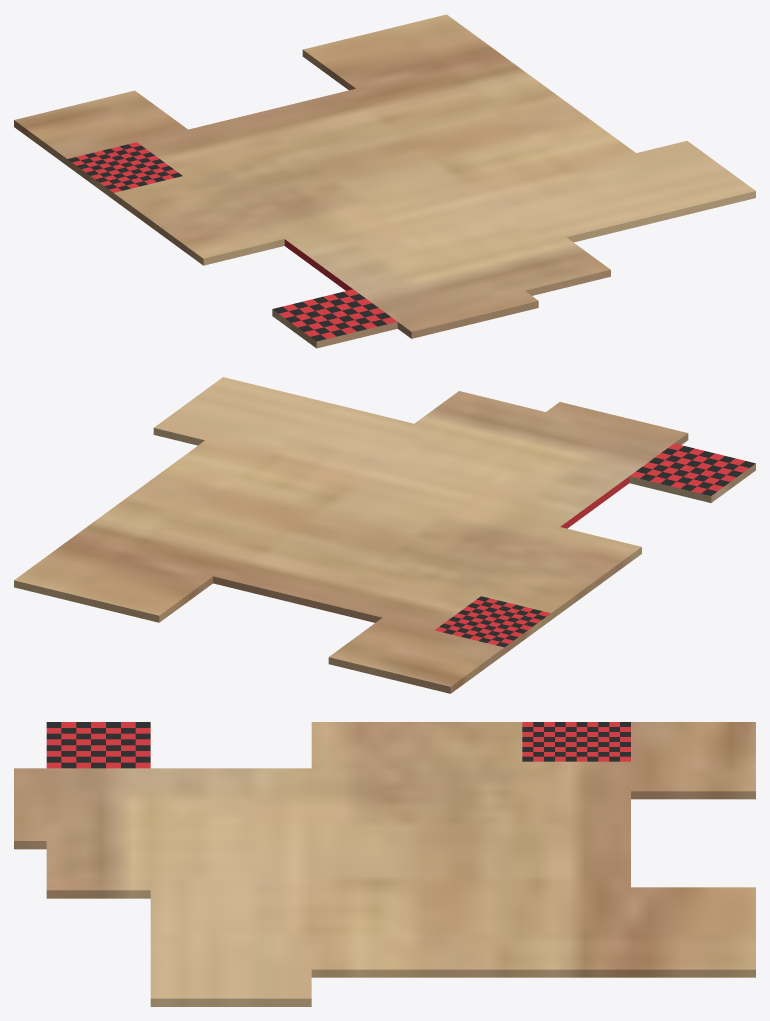
The model's file is Lantai 2 lantai.fbx.
3 renders of one model, top to bottom at view 1: azimuth 30°, elevation 25°; view 2: azimuth 150°, elevation 25°; view 3: azimuth 270°, elevation 25°, orthographic. The views are drawn at different scales.
Visible parts, largest first — view 1: Plane.001; view 2: Plane.001; view 3: Plane.001.
Boxes of the visible parts, left/top/right/bottom form: Plane.001: left=14, top=14, right=755, bottom=348; Plane.001: left=14, top=377, right=755, bottom=693; Plane.001: left=14, top=722, right=755, bottom=1006.
Size of the model in its own units: 2245 by 31 by 2544.
3 materials, 1 textured.
